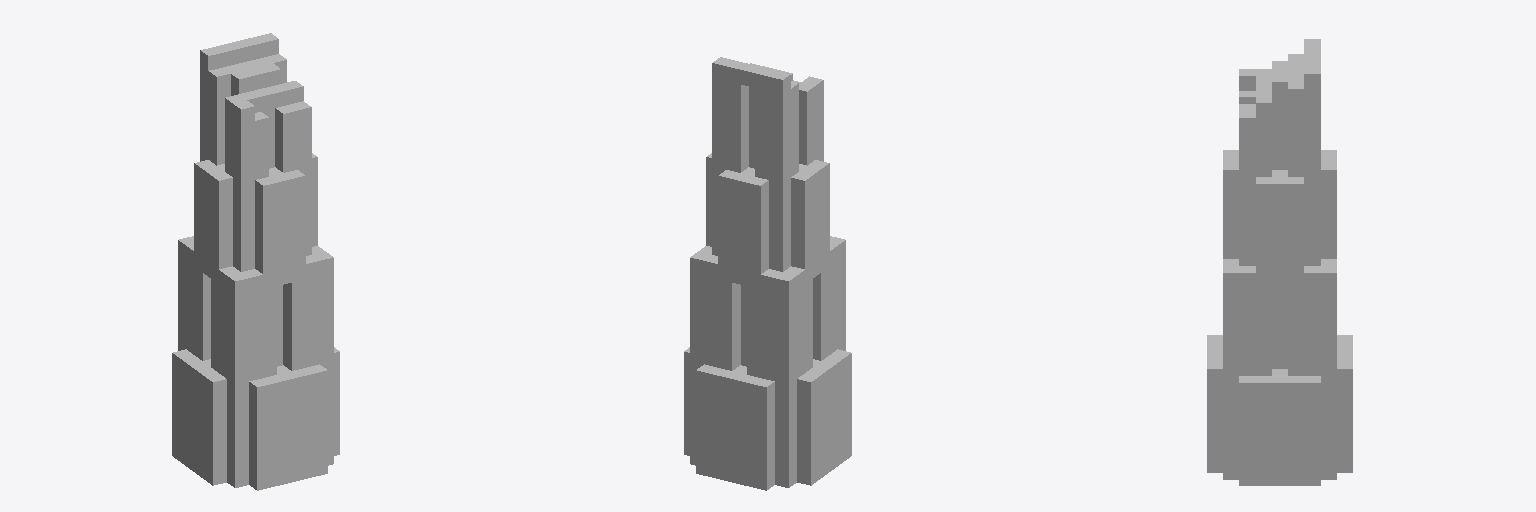
The model's file is PillarHalf.obj.
3 renders of one model, left to right at view 1: azimuth 30°, elevation 25°; view 2: azimuth 150°, elevation 25°; view 3: azimuth 270°, elevation 25°, orthographic.
Visible parts, largest first — view 1: PillarHalf; view 2: PillarHalf; view 3: PillarHalf.
Boxes of the visible parts, <box> form: PillarHalf: <box>172,33,339,490</box>; PillarHalf: <box>684,57,851,490</box>; PillarHalf: <box>1207,39,1352,485</box>.
Bounding box in the file's own units: 9 × 27 × 9.